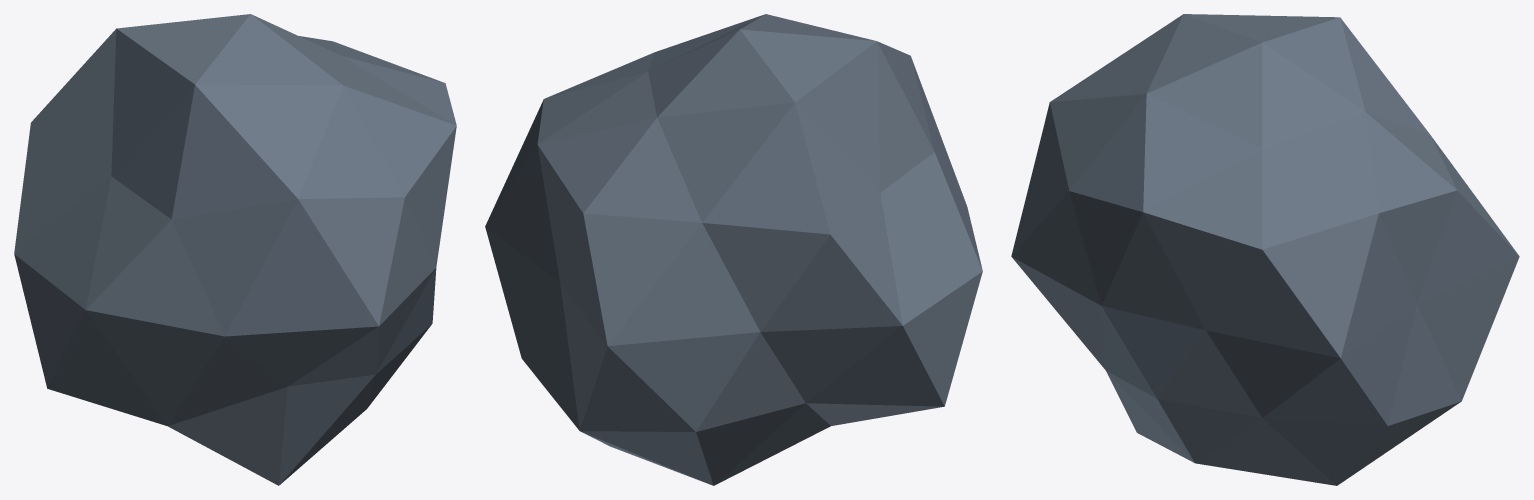
The model's file is Meteorite.fbx.
3 renders of one model, left to right at view 1: azimuth 30°, elevation 25°; view 2: azimuth 150°, elevation 25°; view 3: azimuth 270°, elevation 25°, orthographic. The views are drawn at different scales.
Parts seen in each view (by area): view 1: Irregular meteorite; view 2: Irregular meteorite; view 3: Irregular meteorite.
Boxes of the visible parts, box(x1,y1,x2,y2) form: Irregular meteorite: box(14, 14, 456, 485); Irregular meteorite: box(485, 14, 982, 485); Irregular meteorite: box(1011, 14, 1519, 485).
Bounding box in the file's own units: 91.69 × 87.54 × 98.96.
